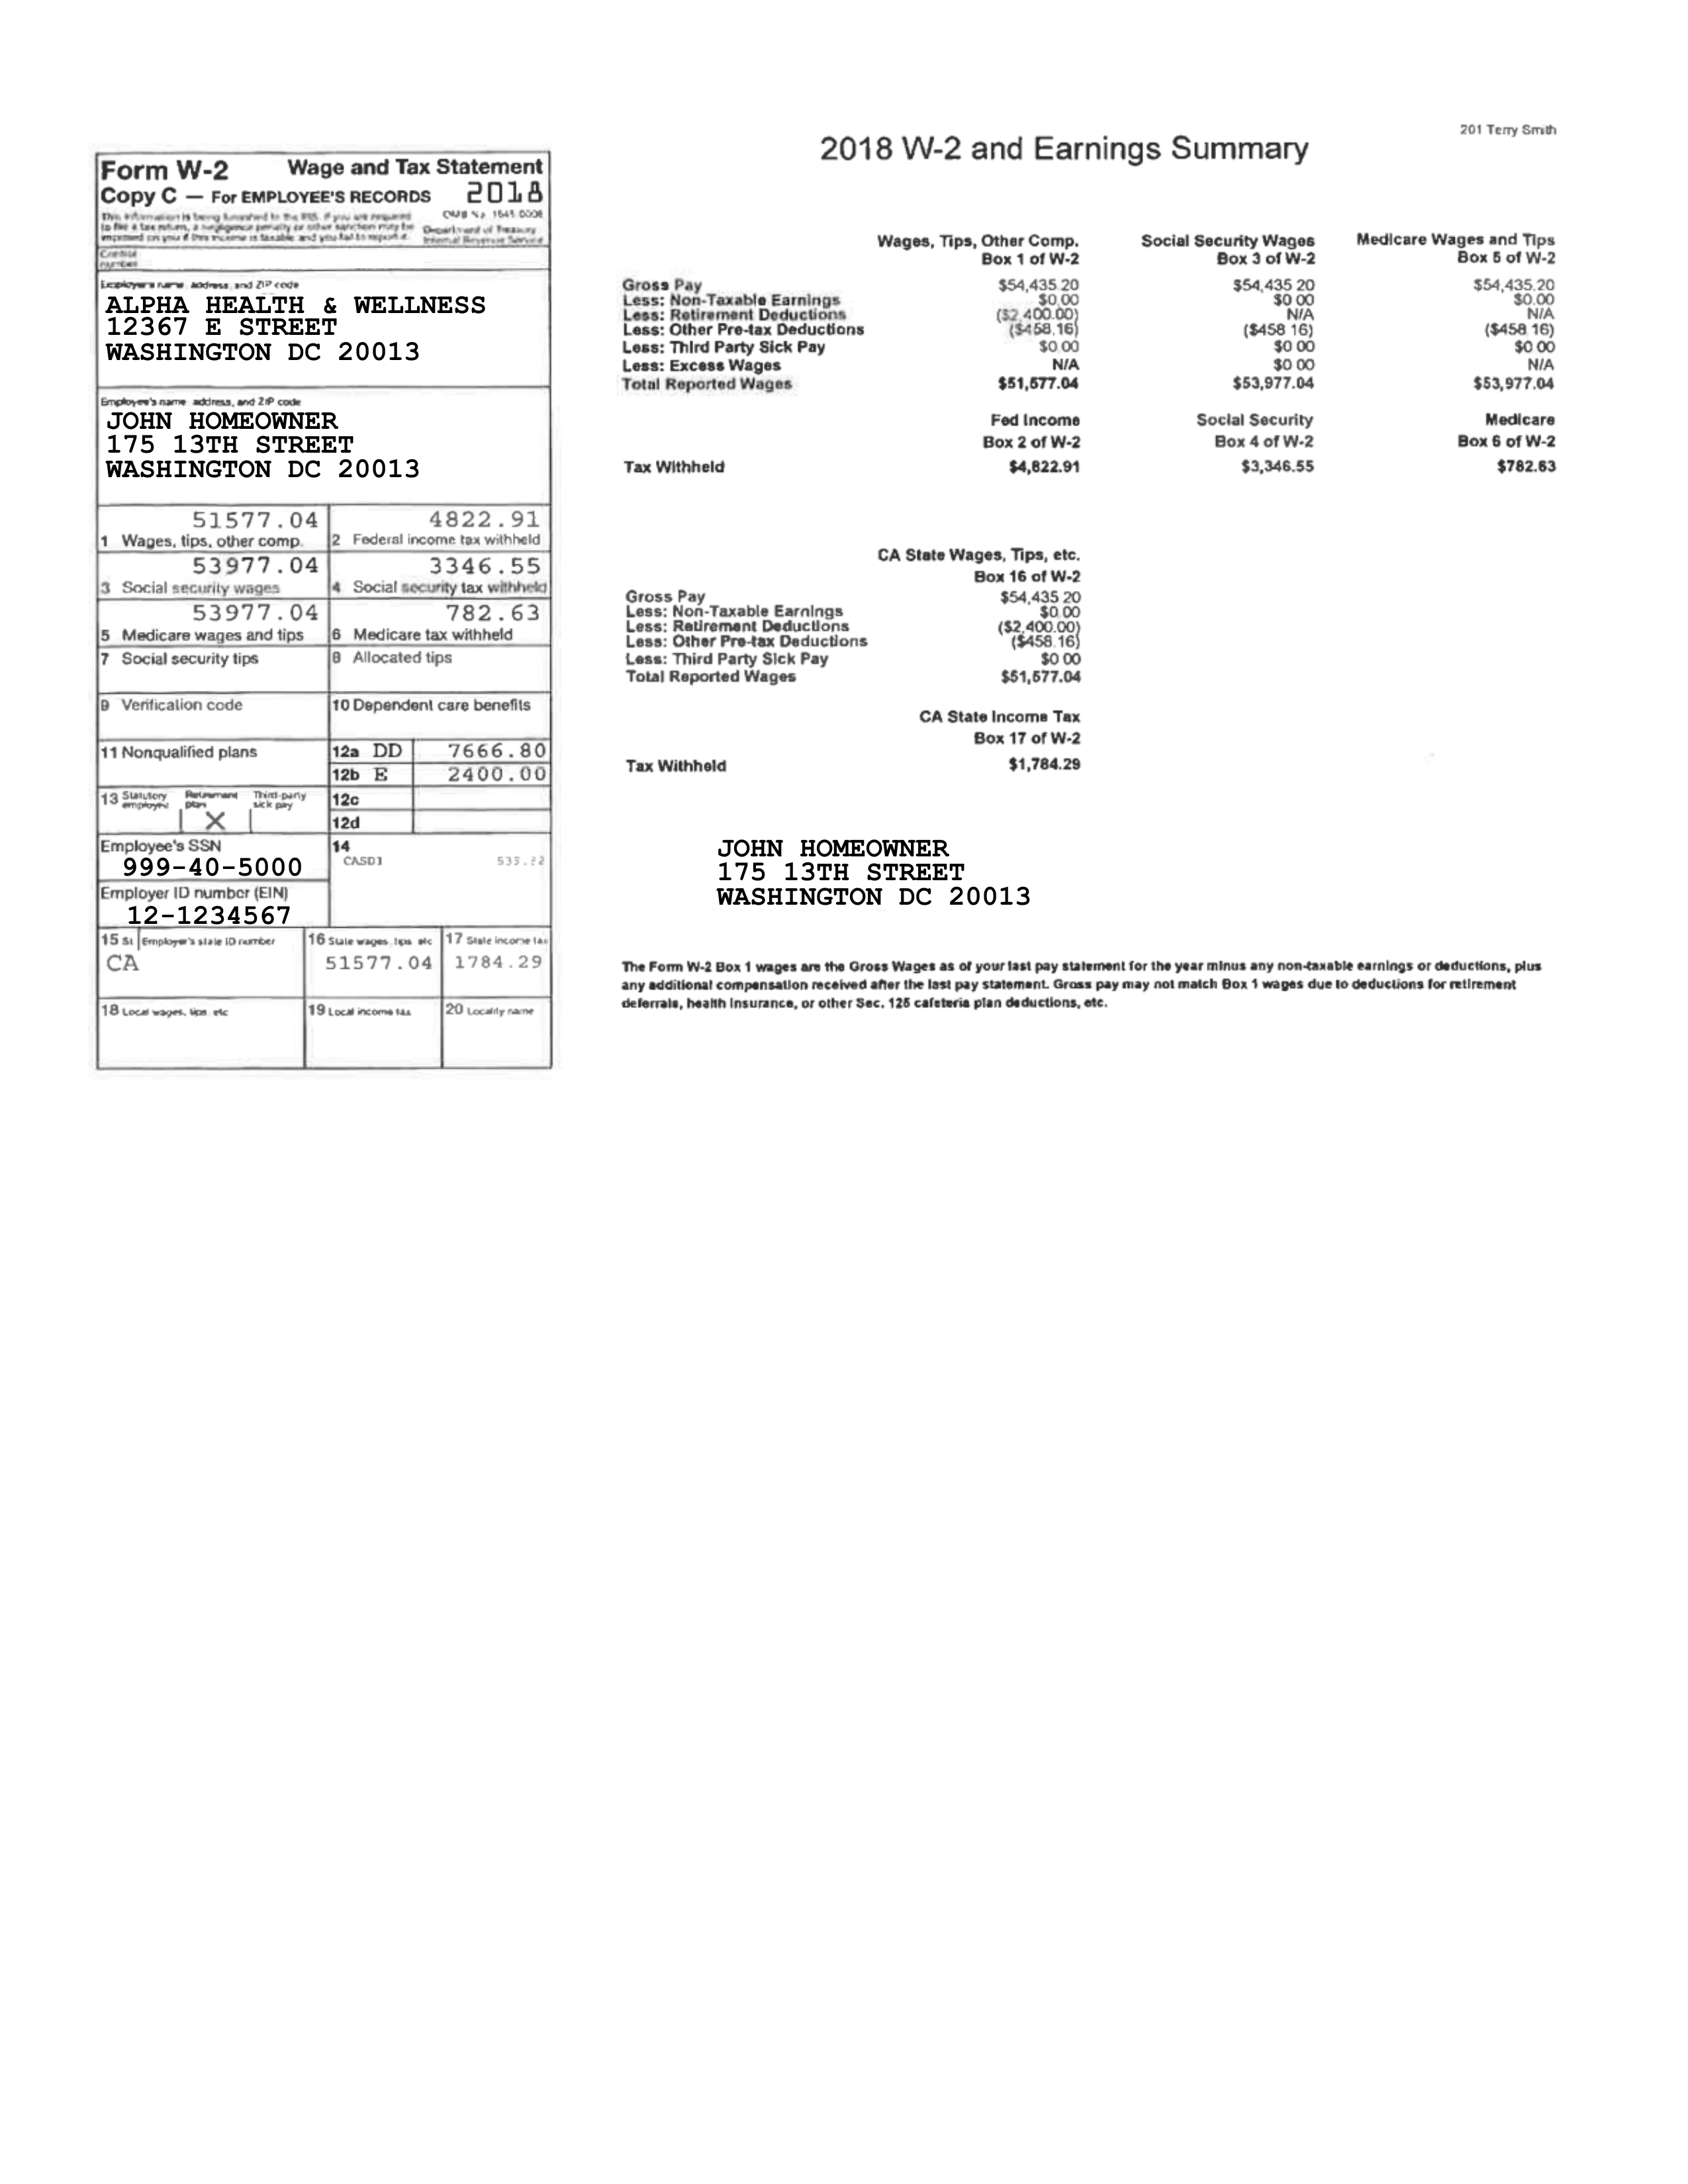table: (96, 154, 550, 1067)
